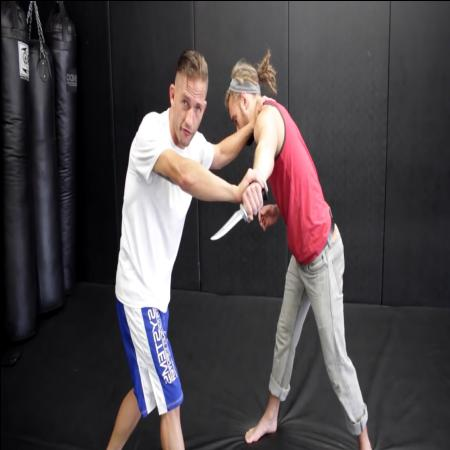long weapon: (206, 178, 270, 246)
